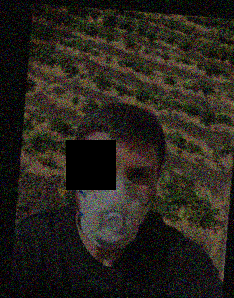with_mask: (77, 146, 155, 249)
